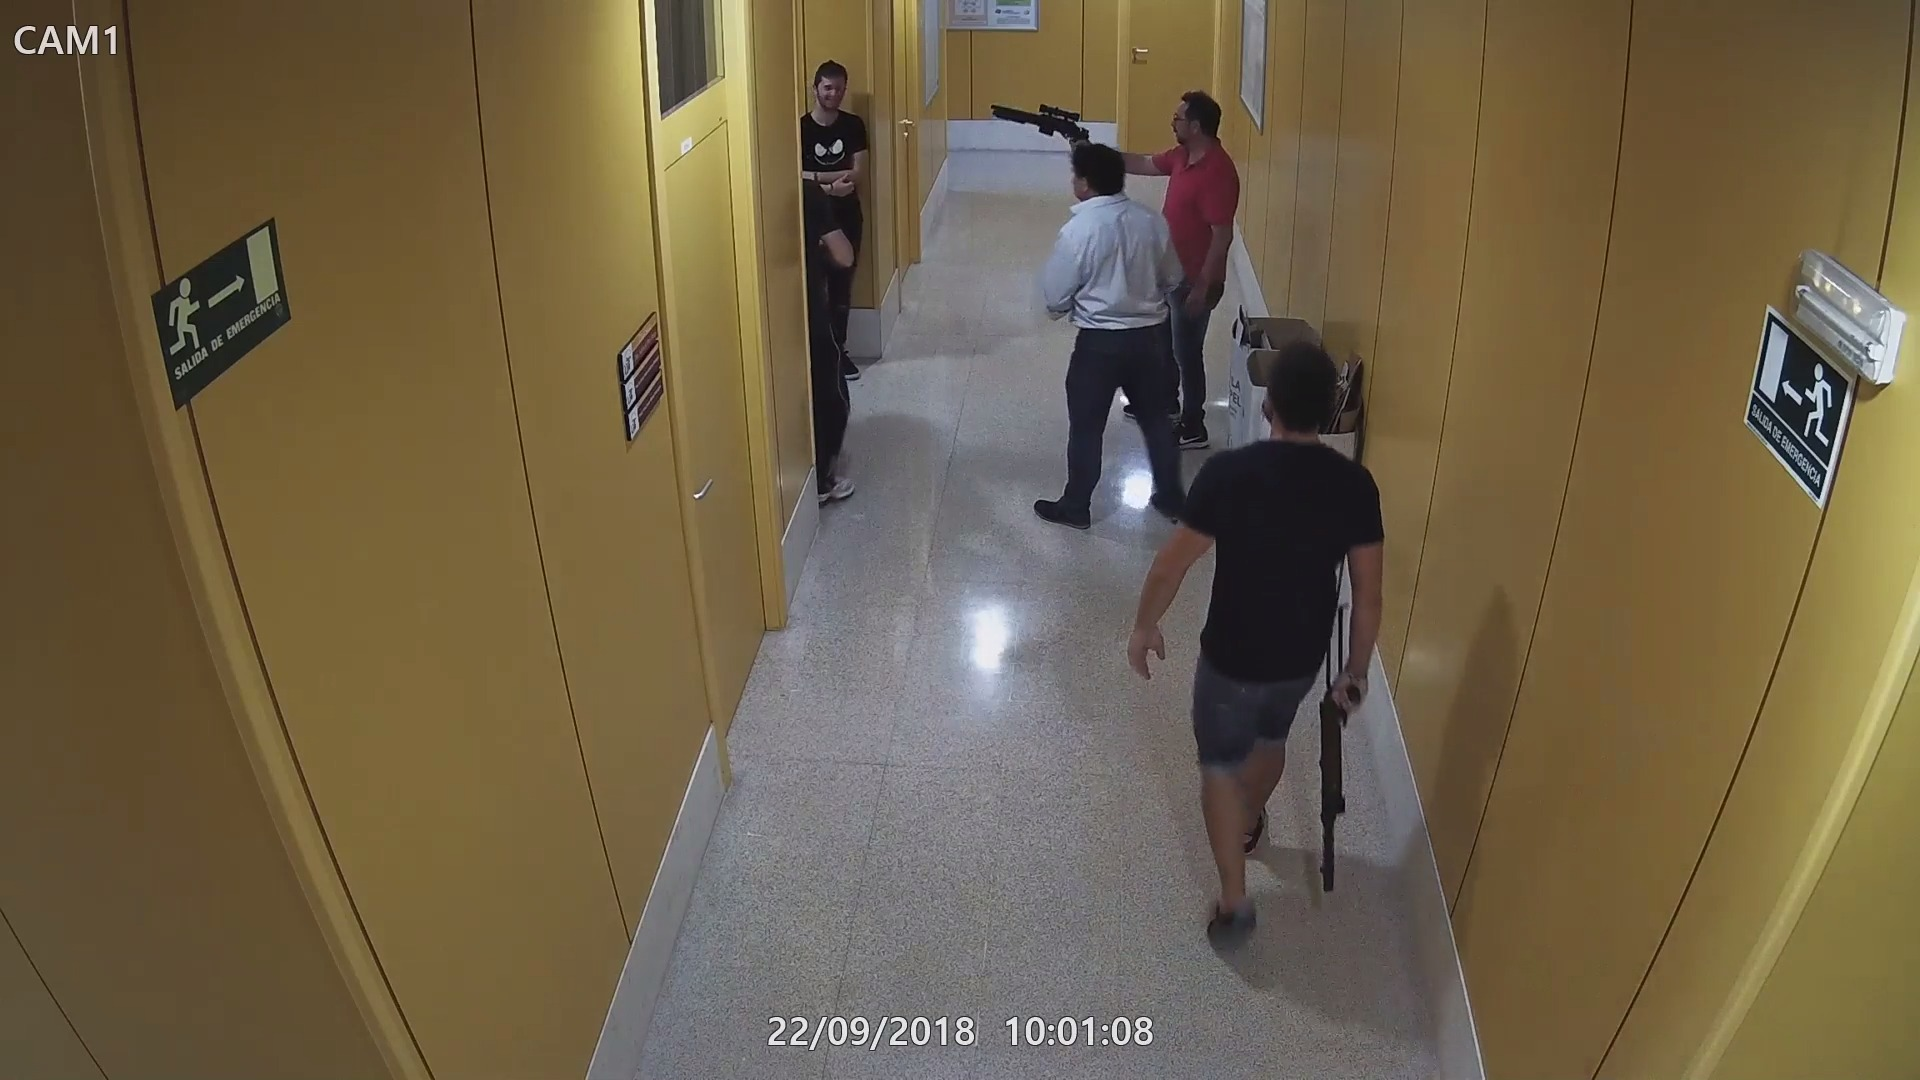Short_rifle: (1315, 587, 1356, 895), (986, 95, 1098, 154)
